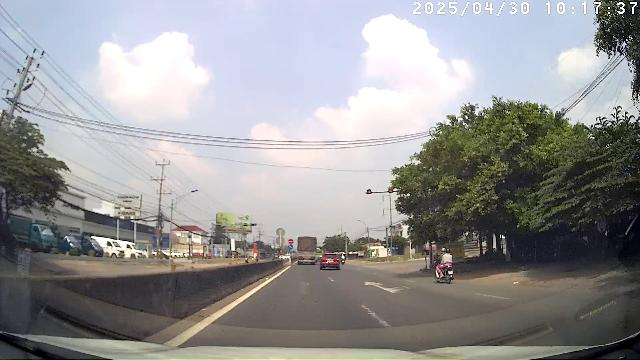102-cam-di-nguoc-chieu: (288, 238, 294, 243)
302a-huong-phai-di-vong-chuong-ngai-vat-1: (288, 244, 294, 250)
